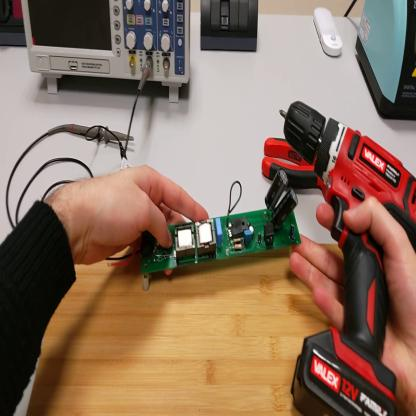electric screwdriver: (278, 106, 416, 415)
hand: (293, 194, 416, 403), (67, 165, 209, 268)
high voltage board: (107, 170, 302, 275)
oscilloscope: (21, 2, 192, 100)
oscilloscope probe tip: (67, 119, 135, 148)
socket: (2, 3, 26, 45)
welder station: (358, 2, 416, 122)
working area: (29, 226, 362, 415)
